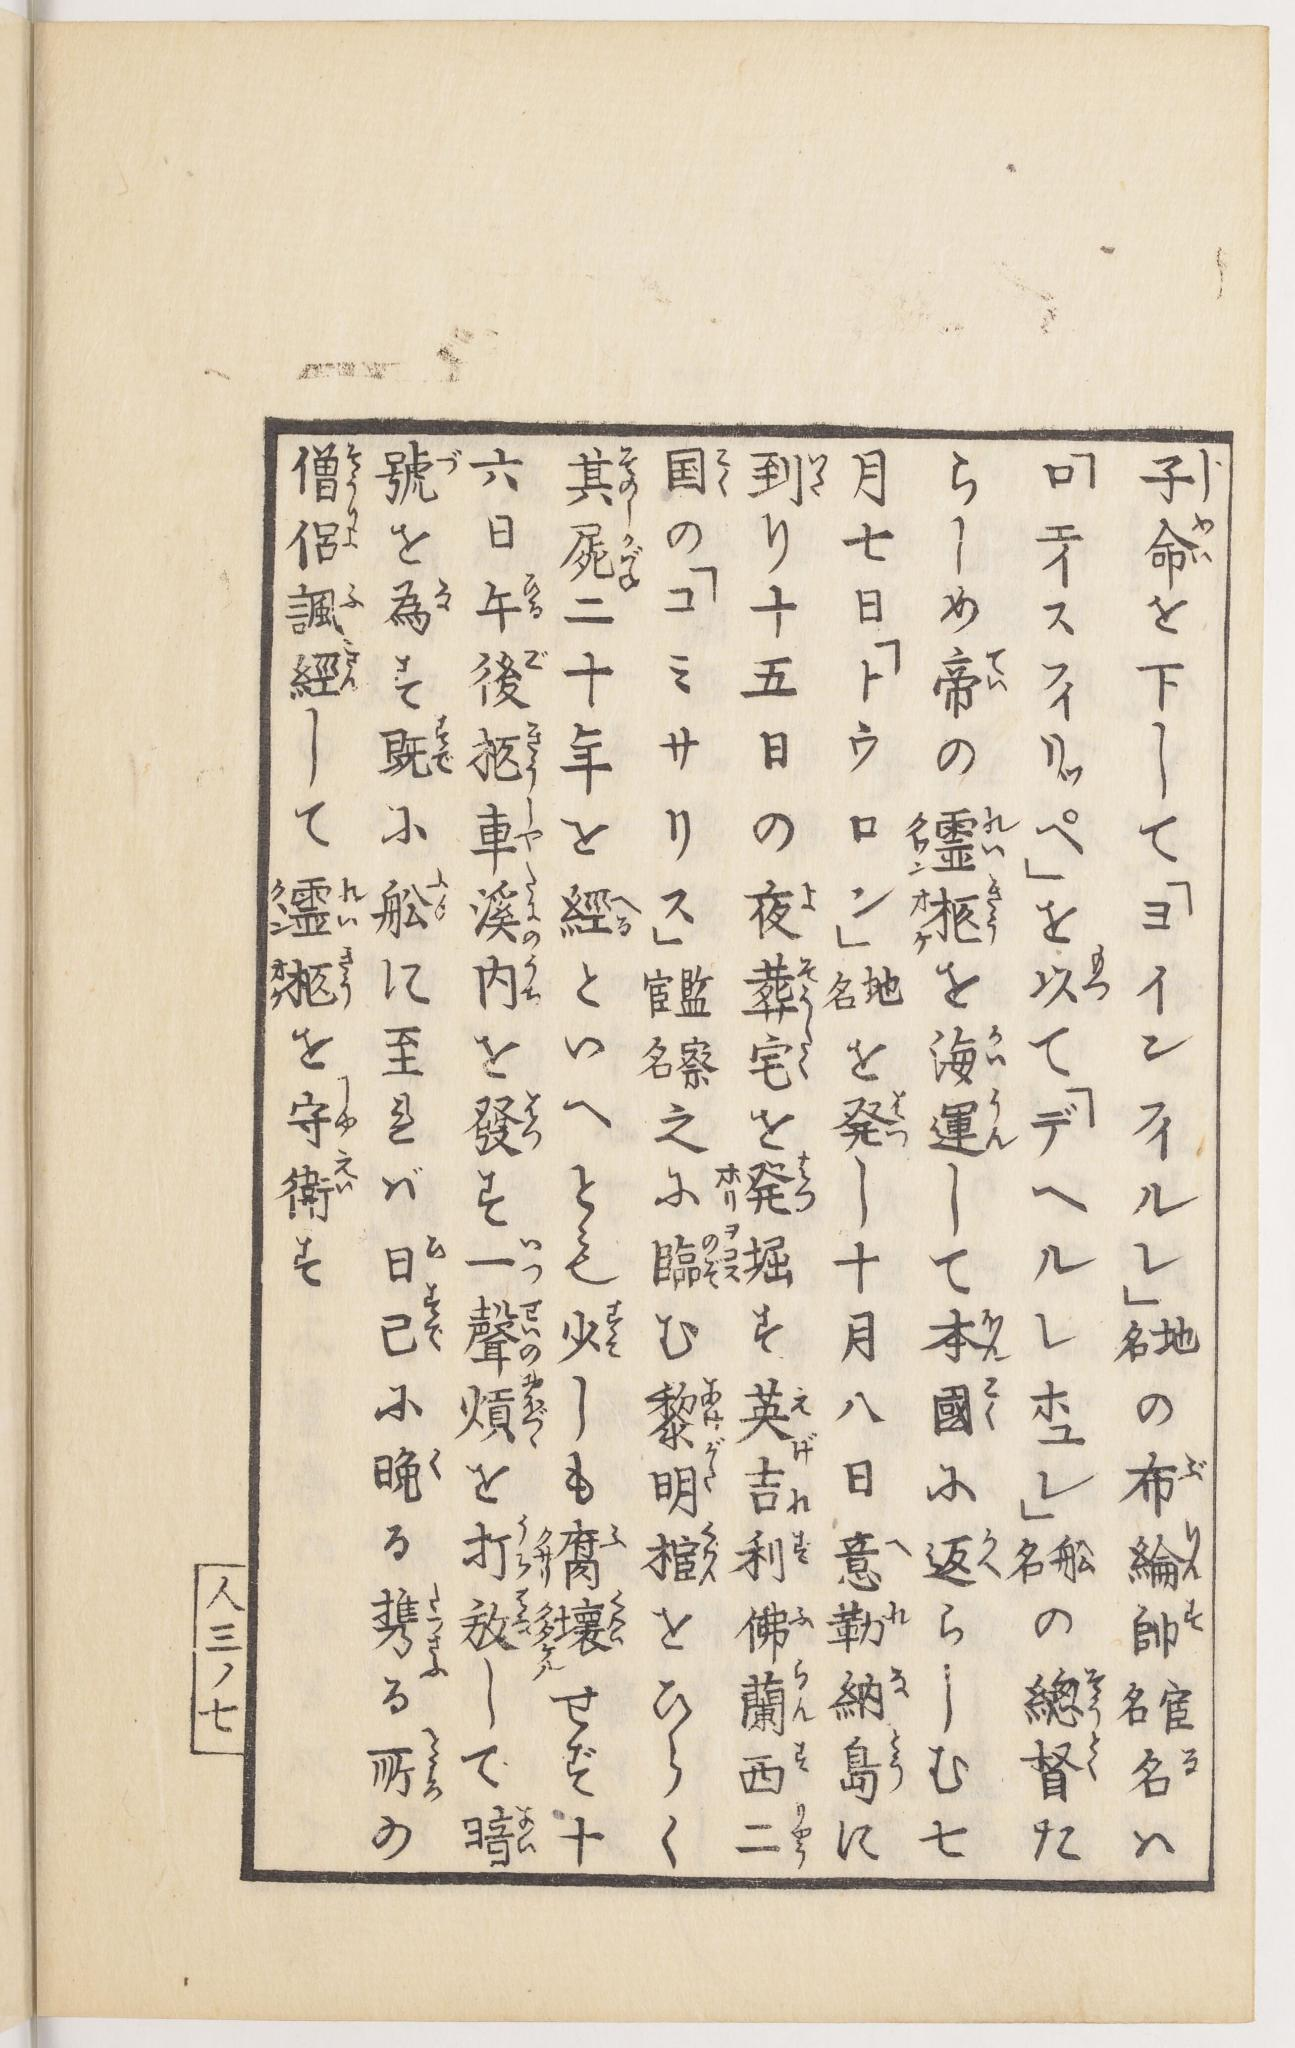MainZone-Character: (367, 1581, 449, 1677), (357, 1726, 448, 1805), (1140, 507, 1225, 591), (272, 1141, 357, 1225), (455, 1374, 549, 1448), (462, 1081, 548, 1163), (730, 1796, 819, 1873), (460, 1293, 551, 1369), (642, 1369, 728, 1448), (642, 1438, 731, 1514), (273, 944, 361, 1020), (1031, 940, 1123, 1011), (834, 1729, 916, 1809), (1122, 1517, 1207, 1595), (926, 1017, 1020, 1087), (263, 873, 366, 935), (928, 1087, 1016, 1160), (562, 522, 646, 598), (934, 637, 1009, 722), (931, 879, 1016, 953), (1119, 1438, 1207, 1510), (1020, 1733, 1109, 1805), (929, 802, 1020, 871), (736, 1383, 819, 1457), (470, 862, 543, 947), (730, 1659, 818, 1729), (455, 1805, 549, 1870), (373, 1283, 455, 1357), (376, 437, 461, 509), (831, 1518, 913, 1592), (1122, 1596, 1213, 1662), (377, 712, 462, 782), (743, 949, 822, 1023), (925, 1305, 1016, 1369), (731, 1601, 824, 1663), (374, 865, 448, 944), (286, 1078, 367, 1149), (568, 443, 642, 519), (1019, 1665, 1106, 1729), (288, 440, 369, 509), (464, 641, 545, 710), (286, 510, 370, 576), (285, 640, 366, 707), (731, 1526, 813, 1592), (1137, 442, 1220, 506), (464, 1583, 534, 1659), (743, 1156, 825, 1220), (744, 450, 827, 515), (556, 1517, 630, 1589), (649, 1517, 725, 1586), (468, 713, 546, 780), (462, 789, 542, 853), (740, 1032, 813, 1099), (457, 1514, 530, 1580), (661, 442, 736, 506), (828, 1596, 910, 1654), (924, 1526, 1001, 1587), (556, 1298, 628, 1363), (474, 573, 549, 635), (1134, 1742, 1210, 1803), (731, 1733, 813, 1790), (567, 1590, 631, 1662), (283, 580, 367, 634), (383, 568, 455, 631), (835, 1093, 915, 1150), (649, 1228, 719, 1290), (832, 1668, 912, 1723), (559, 880, 631, 938), (741, 1457, 818, 1511), (464, 952, 537, 1007)
MainZone-Ruby: (515, 1369, 549, 1450), (519, 1081, 555, 1156), (789, 1381, 822, 1462), (421, 1586, 446, 1683), (979, 879, 1012, 950), (419, 1721, 448, 1803), (518, 862, 545, 949), (427, 710, 460, 780), (988, 1087, 1022, 1153), (976, 1301, 1010, 1365), (982, 801, 1020, 858), (615, 528, 646, 598), (1082, 944, 1117, 1005), (422, 1281, 452, 1354), (613, 443, 643, 515), (519, 720, 548, 786), (979, 1019, 1012, 1075), (791, 1659, 818, 1727), (794, 1156, 824, 1217), (882, 1089, 913, 1147), (330, 1083, 363, 1137), (703, 1436, 731, 1498), (516, 792, 543, 856), (883, 1729, 910, 1793), (333, 879, 366, 931), (794, 958, 821, 1020), (334, 944, 358, 1011), (701, 1517, 722, 1593), (1082, 1665, 1106, 1730), (698, 1371, 724, 1432), (610, 889, 645, 934), (607, 1590, 630, 1659), (425, 870, 449, 934), (792, 1800, 813, 1873), (698, 1235, 727, 1289), (979, 1527, 1007, 1581), (1183, 1517, 1204, 1587), (519, 1299, 543, 1360), (345, 439, 366, 506), (512, 1513, 533, 1580), (331, 1144, 355, 1202), (516, 1805, 540, 1860), (606, 1299, 627, 1362), (794, 1031, 819, 1081), (518, 956, 545, 1004), (1197, 445, 1217, 504), (340, 637, 363, 692), (785, 1478, 816, 1517), (524, 571, 548, 621), (434, 447, 464, 486), (510, 1587, 531, 1641), (886, 1526, 916, 1563), (986, 644, 1009, 694), (716, 446, 734, 504), (1182, 1595, 1207, 1633), (788, 1603, 821, 1633), (600, 1521, 628, 1556), (804, 450, 824, 500), (1086, 1735, 1106, 1784), (791, 1741, 816, 1777), (343, 512, 366, 552), (792, 1529, 815, 1569), (1191, 510, 1220, 540), (430, 574, 454, 612), (886, 1663, 910, 1699), (1182, 1451, 1210, 1481), (1180, 1745, 1205, 1778), (527, 643, 551, 674), (883, 1599, 909, 1627), (343, 579, 364, 613)
